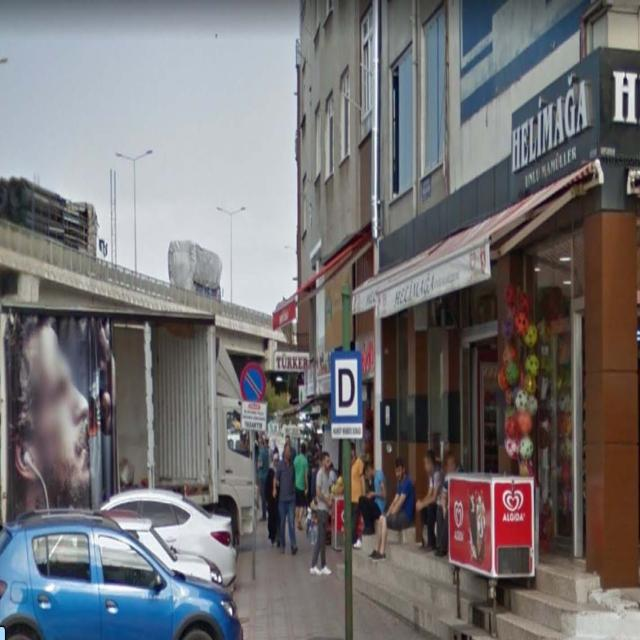durak: (330, 352, 360, 423)
parkyasak: (240, 363, 266, 403)
